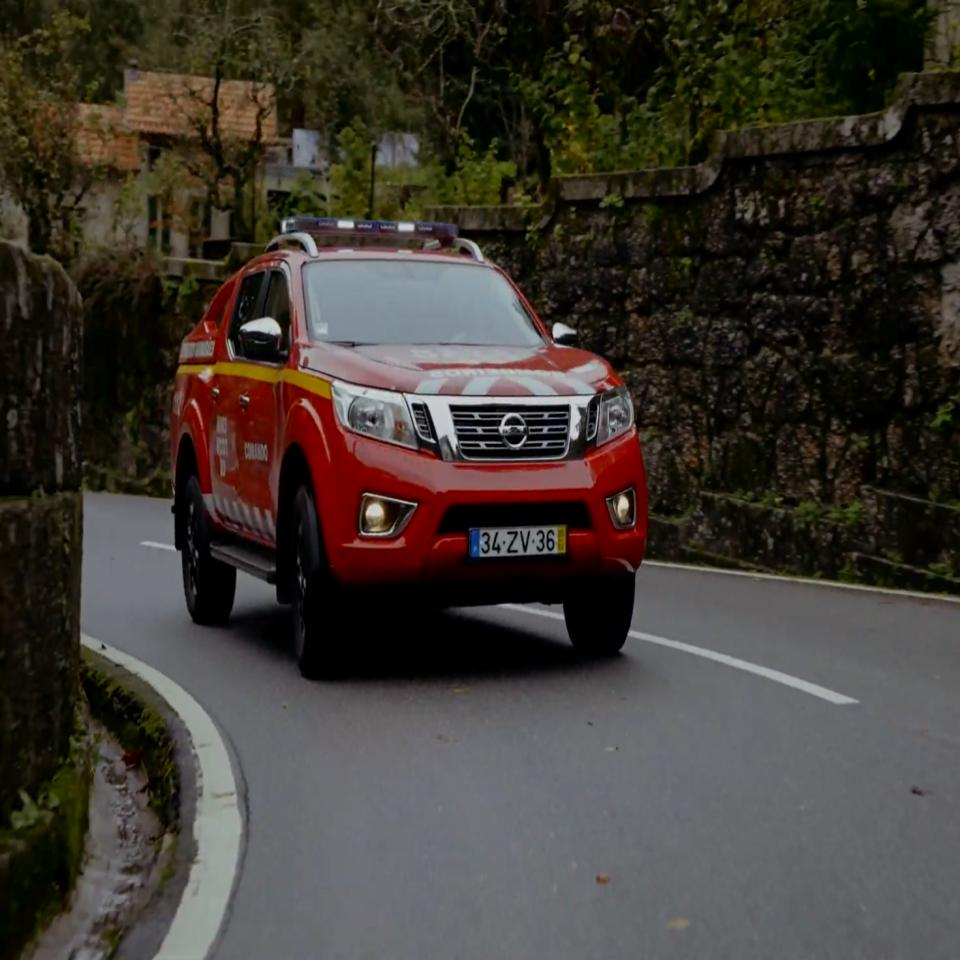bombeiro: (170, 216, 648, 679)
